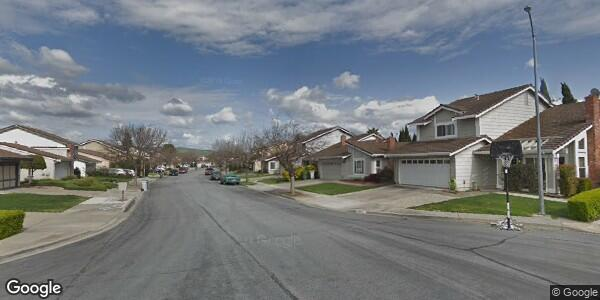Steel_Pole: (522, 4, 548, 216)
